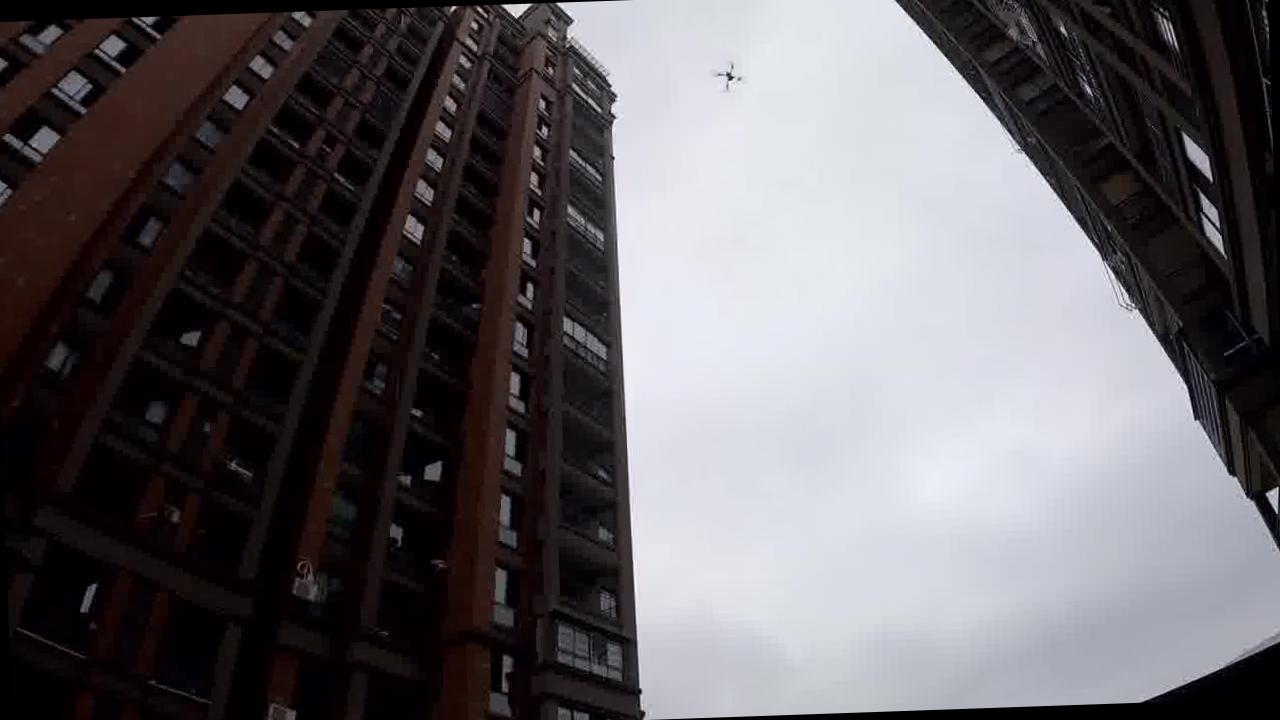drone: (700, 52, 756, 119)
